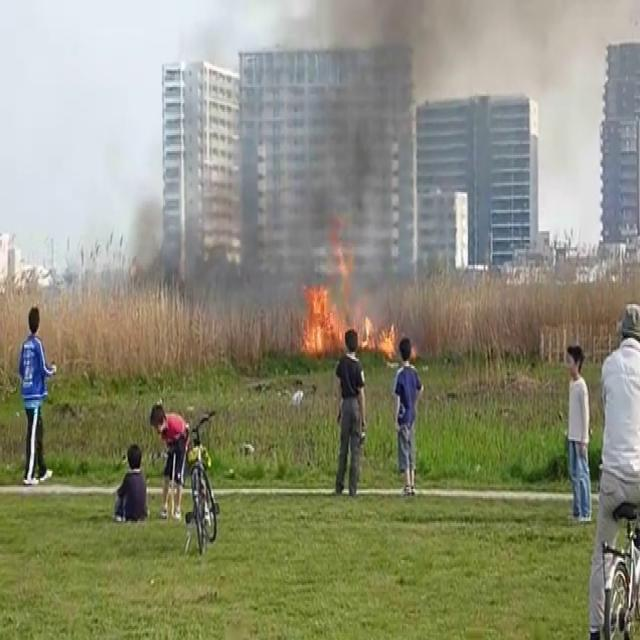Fire: (296, 236, 398, 361)
Smoke: (136, 102, 400, 300), (300, 0, 522, 164)
